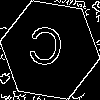C: (25, 25, 65, 76)
